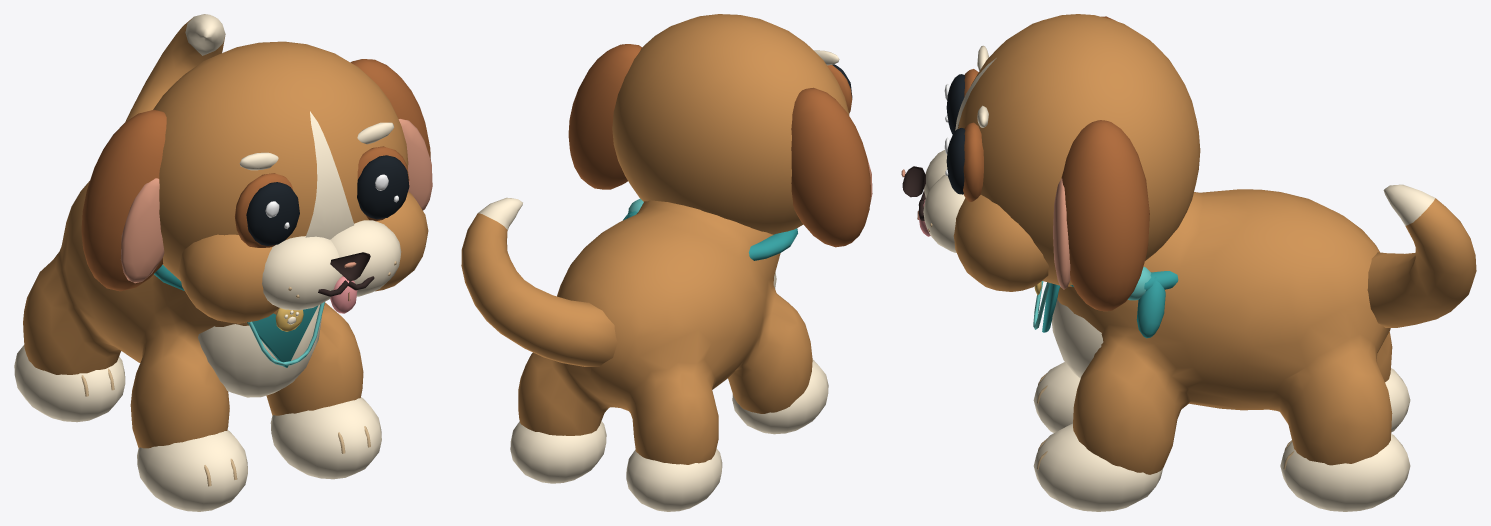
File: Biscoito_Puppy.fbx
The picture shows the model from 3 angles, left to right: view 1: azimuth 30°, elevation 25°; view 2: azimuth 150°, elevation 25°; view 3: azimuth 270°, elevation 25°; orthographic projection. The views are drawn at different scales.
Visible parts, largest first — view 1: Biscoito_Puppy; view 2: Biscoito_Puppy; view 3: Biscoito_Puppy.
Boxes of the visible parts, bbox=[...] form: Biscoito_Puppy: bbox=[14, 14, 432, 511]; Biscoito_Puppy: bbox=[461, 14, 872, 511]; Biscoito_Puppy: bbox=[901, 14, 1476, 511].
Bounding box in the file's own units: 1.72 × 2.15 × 2.52.
Materials: 1 (1 with a texture image).
